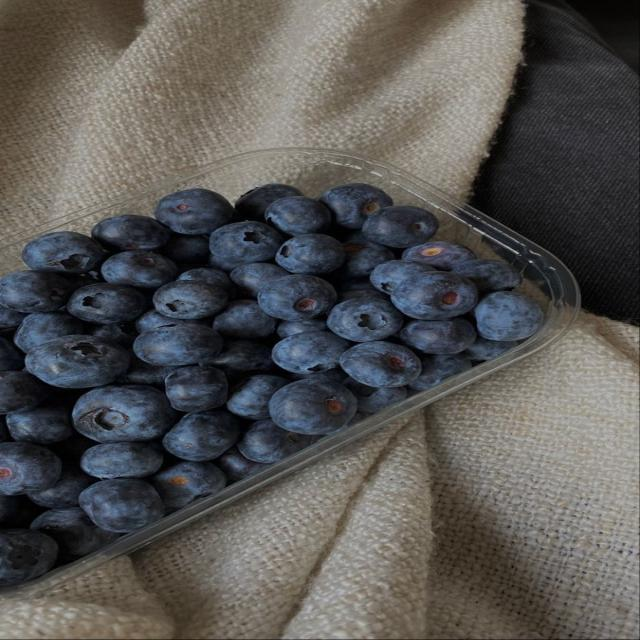blueberry: (73, 385, 178, 442), (26, 335, 129, 388), (270, 380, 357, 434), (79, 479, 164, 532), (31, 508, 119, 557), (392, 271, 478, 319), (163, 410, 239, 461), (151, 462, 226, 512), (133, 324, 222, 365), (155, 189, 234, 235), (210, 222, 283, 270), (237, 419, 316, 463), (258, 275, 337, 319), (341, 342, 420, 386), (22, 232, 104, 274), (474, 292, 544, 340), (67, 283, 148, 324), (328, 298, 403, 342), (319, 183, 392, 228), (0, 529, 57, 585), (0, 442, 61, 494), (272, 332, 349, 373), (363, 206, 438, 247), (80, 442, 163, 478), (0, 271, 71, 313), (165, 366, 228, 412), (153, 280, 227, 319), (14, 311, 83, 352), (101, 251, 177, 288), (275, 234, 345, 274), (227, 375, 289, 420), (92, 215, 169, 251), (6, 403, 73, 444), (28, 467, 94, 508), (401, 318, 475, 354), (265, 196, 331, 236), (235, 183, 302, 220), (213, 300, 275, 339), (451, 260, 521, 292), (410, 354, 472, 390), (370, 260, 434, 294), (345, 379, 407, 413), (0, 371, 50, 413), (403, 241, 475, 270), (117, 355, 180, 388), (231, 263, 288, 297), (339, 242, 394, 277), (177, 268, 236, 299), (216, 447, 268, 482), (136, 310, 210, 332), (50, 433, 95, 468), (161, 234, 209, 265), (0, 495, 44, 527), (464, 337, 518, 362), (87, 323, 137, 348), (336, 277, 388, 301), (277, 319, 327, 339), (289, 368, 347, 383), (0, 337, 23, 370), (0, 305, 27, 330), (339, 288, 387, 302), (335, 277, 374, 294), (66, 274, 100, 292), (0, 495, 21, 523), (339, 412, 370, 430), (0, 415, 12, 442)
